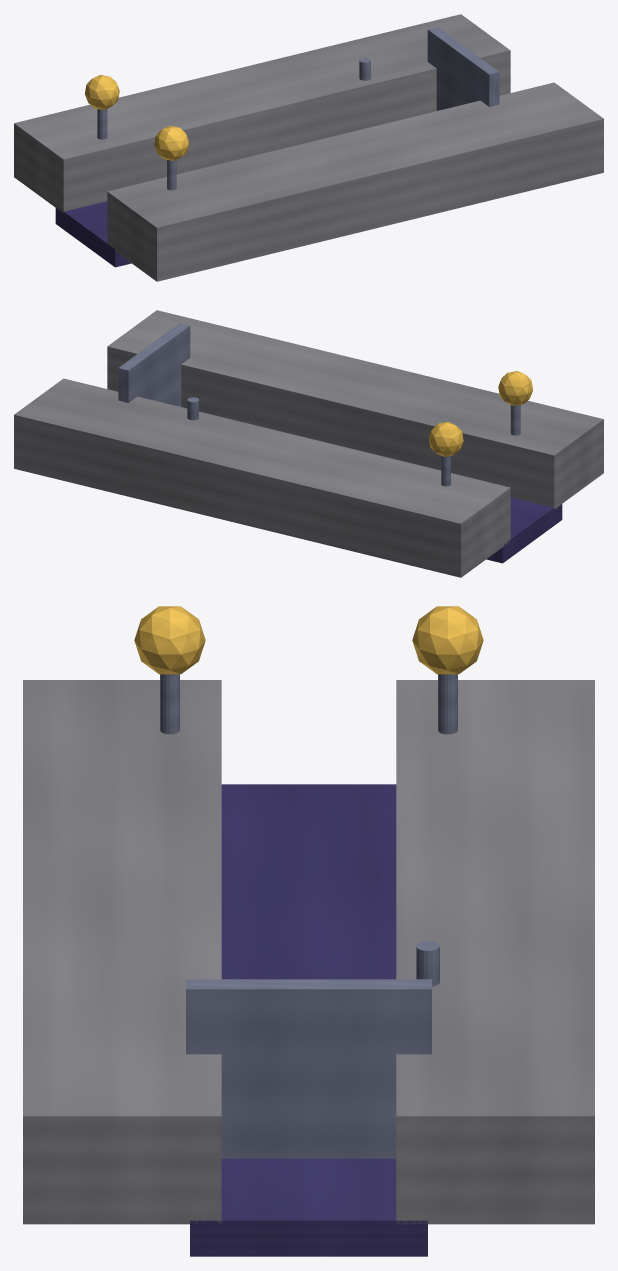
The model's file is starless-canal.glb.
3 renders of one model, top to bottom at view 1: azimuth 30°, elevation 25°; view 2: azimuth 150°, elevation 25°; view 3: azimuth 270°, elevation 25°, orthographic. The views are drawn at different scales.
Visible parts, largest first — view 1: canal-right-bank, canal-left-bank, canal-floodgate, canal-channel-floor, canal-lantern-0, canal-lantern-1; view 2: canal-left-bank, canal-right-bank, canal-floodgate, canal-channel-floor, canal-lantern-0, canal-lantern-1; view 3: canal-right-bank, canal-left-bank, canal-channel-floor, canal-floodgate, canal-lantern-0, canal-lantern-1, canal-lantern-post-0, canal-lantern-post-1, canal-mooring-post.
Part boxes in pixels (x1=…): canal-right-bank: x1=107, y1=82, x2=603, y2=281; canal-left-bank: x1=14, y1=14, x2=510, y2=213; canal-floodgate: x1=427, y1=27, x2=499, y2=110; canal-channel-floor: x1=55, y1=201, x2=131, y2=267; canal-lantern-0: x1=85, y1=75, x2=119, y2=109; canal-lantern-1: x1=154, y1=126, x2=189, y2=160; canal-left-bank: x1=14, y1=378, x2=510, y2=577; canal-right-bank: x1=107, y1=310, x2=603, y2=509; canal-floodgate: x1=118, y1=323, x2=190, y2=406; canal-channel-floor: x1=486, y1=497, x2=562, y2=563; canal-lantern-0: x1=428, y1=422, x2=463, y2=456; canal-lantern-1: x1=498, y1=371, x2=532, y2=405; canal-right-bank: x1=23, y1=680, x2=221, y2=1224; canal-left-bank: x1=396, y1=680, x2=594, y2=1224; canal-channel-floor: x1=190, y1=784, x2=427, y2=1256; canal-floodgate: x1=186, y1=979, x2=431, y2=1158; canal-lantern-0: x1=412, y1=606, x2=483, y2=674; canal-lantern-1: x1=134, y1=606, x2=205, y2=674; canal-lantern-post-0: x1=438, y1=674, x2=457, y2=734; canal-lantern-post-1: x1=160, y1=674, x2=179, y2=734; canal-mooring-post: x1=416, y1=941, x2=439, y2=986.
Size of the model in its own units: 2.6 by 0.73 by 1.44.
9 materials, 9 textured.
